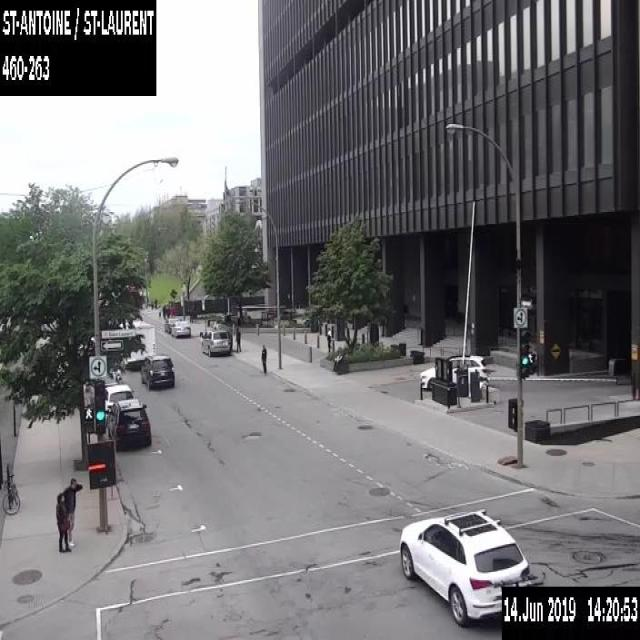pedestrian: (62, 477, 82, 545), (54, 492, 72, 553), (260, 342, 266, 374), (234, 326, 241, 352), (188, 304, 193, 322), (162, 304, 166, 318), (166, 305, 170, 318)
vehicle: (398, 506, 530, 626), (106, 396, 151, 452), (419, 354, 488, 389), (117, 319, 155, 369), (140, 352, 174, 390), (105, 382, 134, 413), (201, 328, 232, 356), (87, 378, 117, 405), (170, 320, 190, 337), (164, 317, 181, 332)
